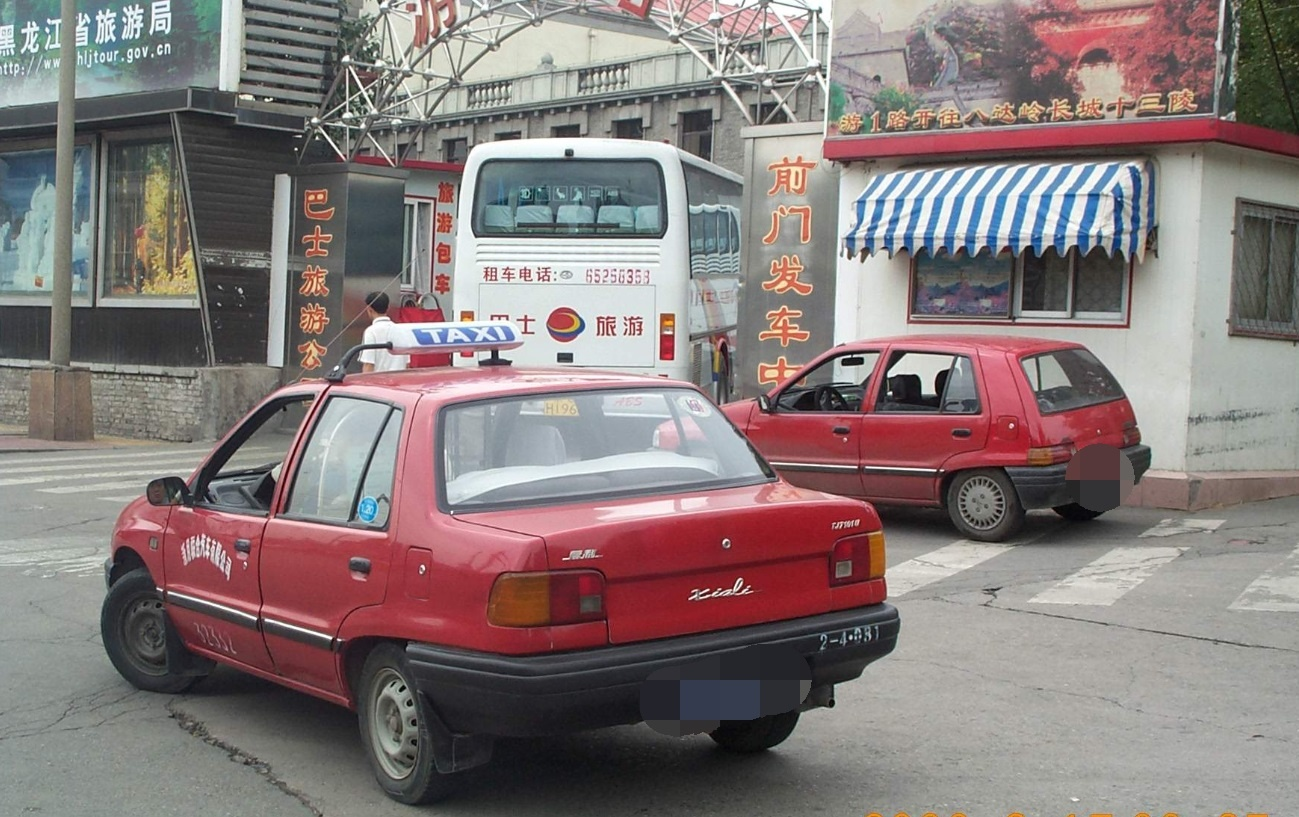taxi: (122, 305, 907, 814)
